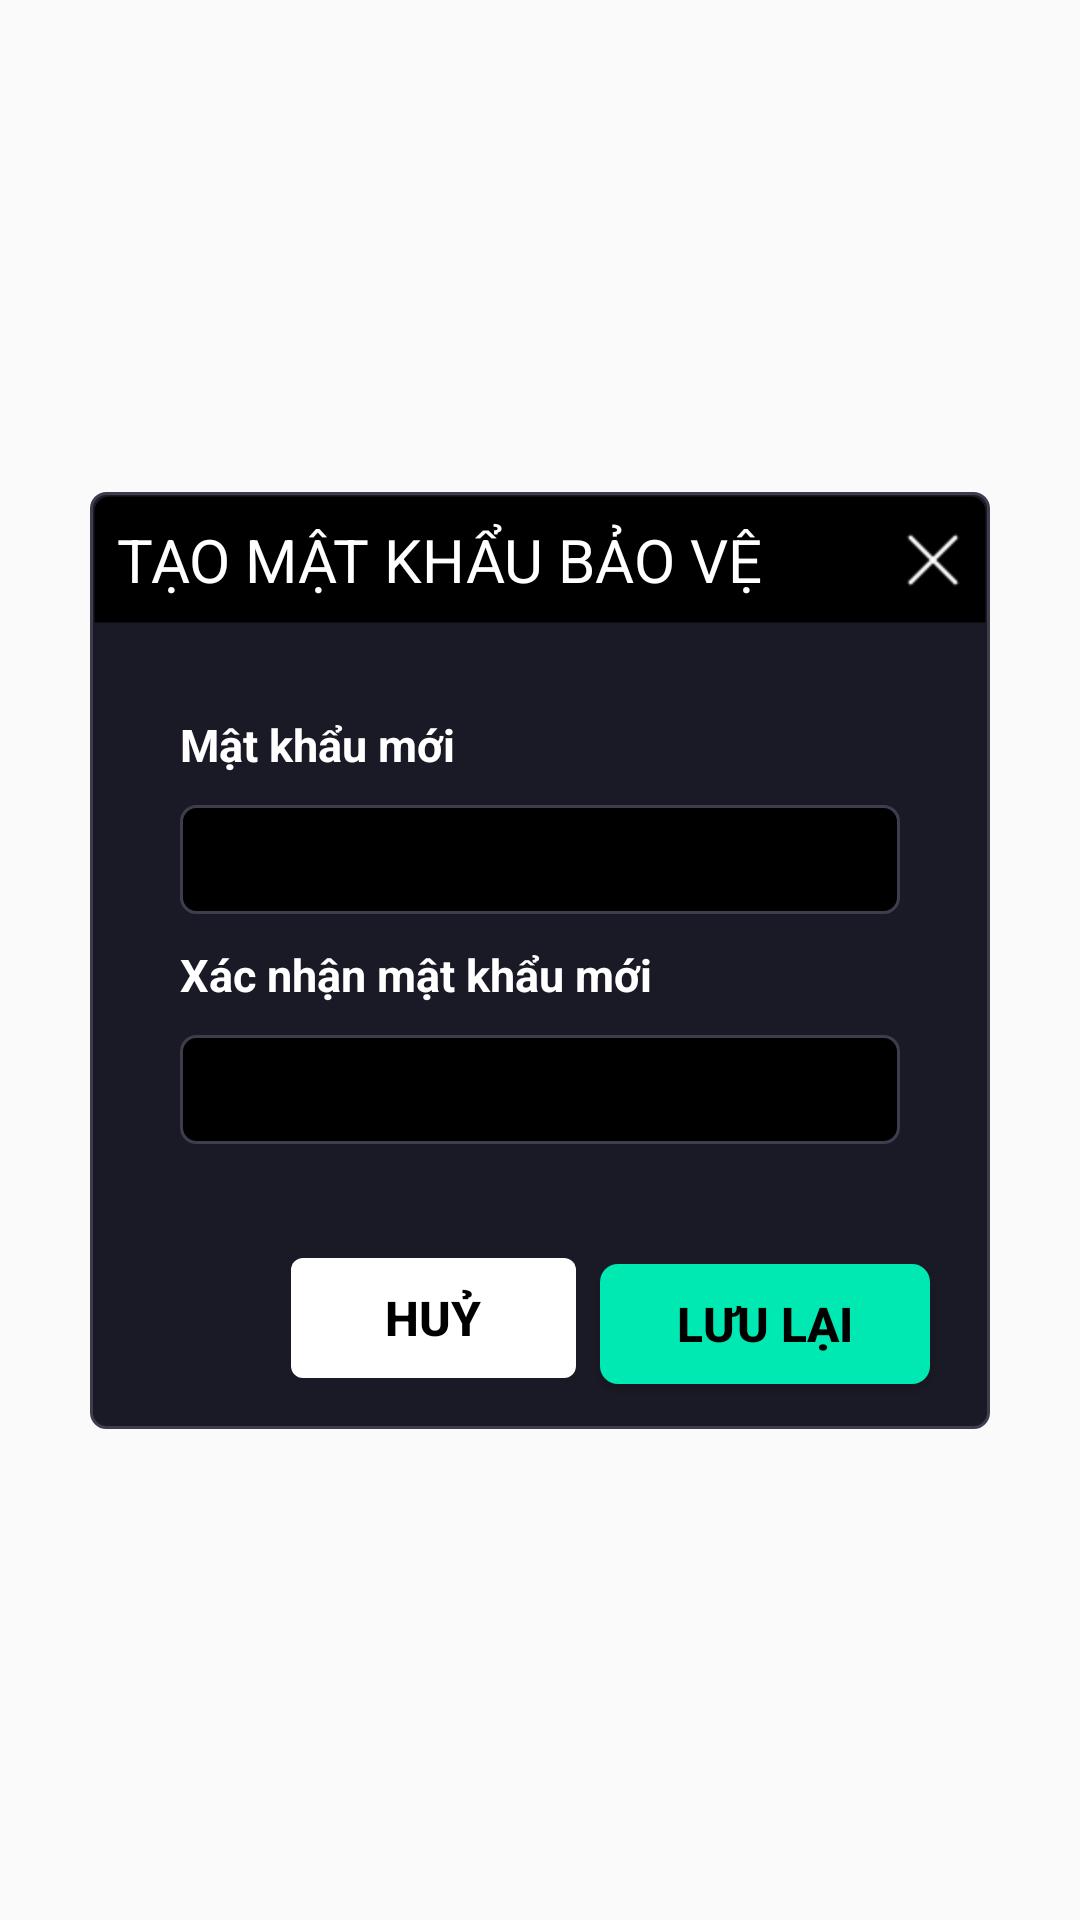

Screen size 1080 × 1920. Icon name, then its box in pixels as (x1, y1, x2, y2):
close: (907, 534, 959, 586)
